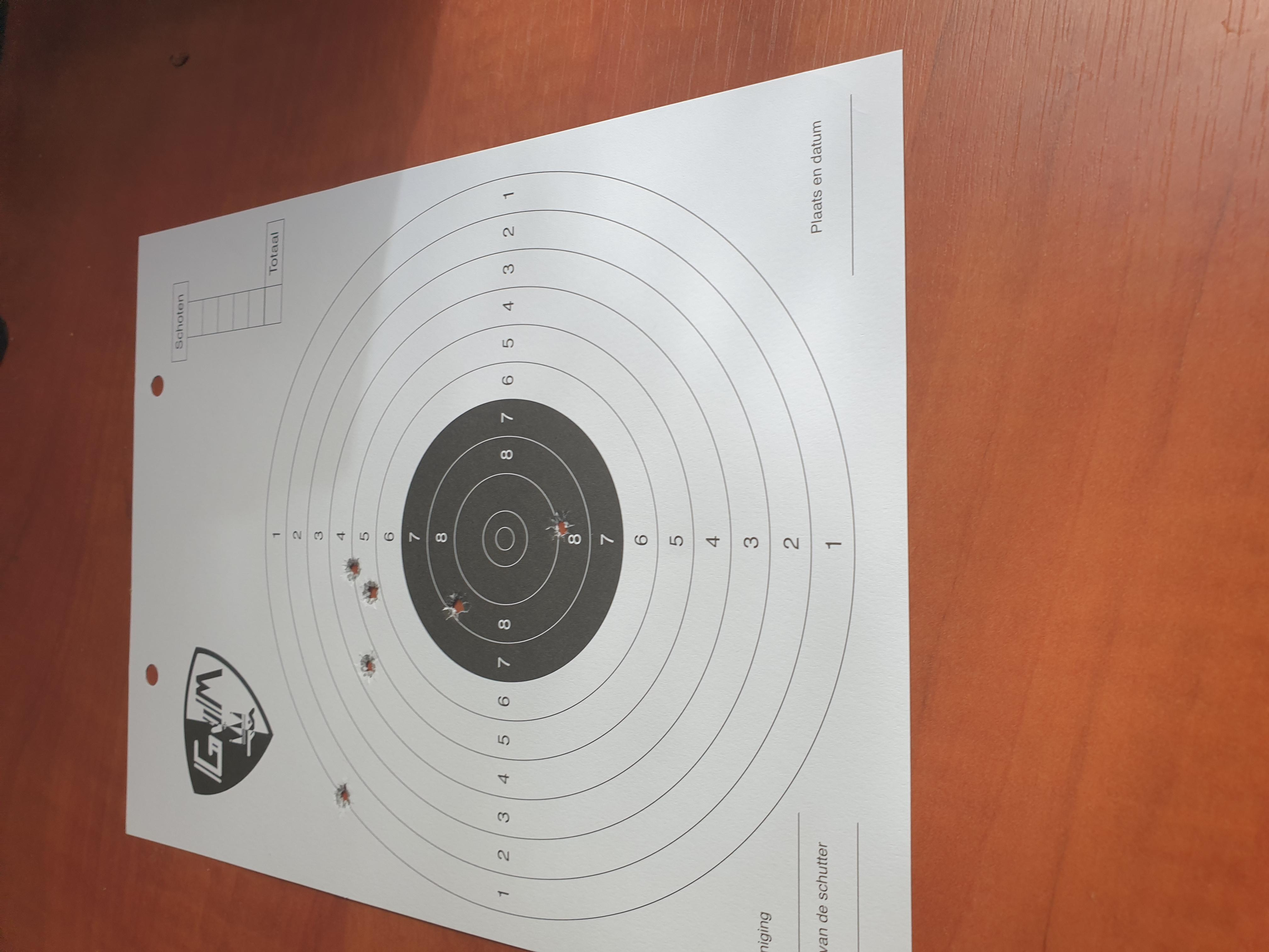hole: (543, 409, 590, 432), (440, 330, 483, 353), (457, 267, 494, 287), (489, 254, 530, 272), (363, 265, 400, 284), (187, 249, 227, 264)
